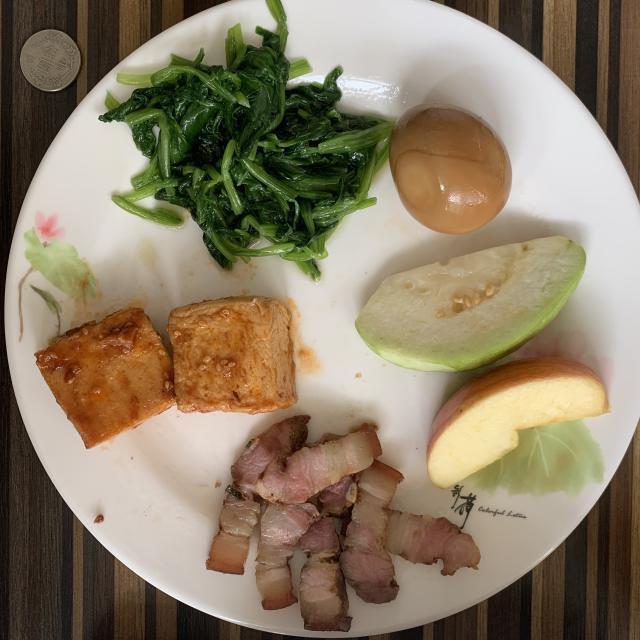apple -sliced-: (426, 358, 609, 489)
coin: (20, 30, 81, 92)
creamy tofu: (36, 296, 298, 448)
grilled pork: (206, 415, 480, 631)
guava -sliced-: (355, 236, 585, 371)
mustard greens: (99, 0, 394, 280)
soy egg: (390, 105, 511, 234)
